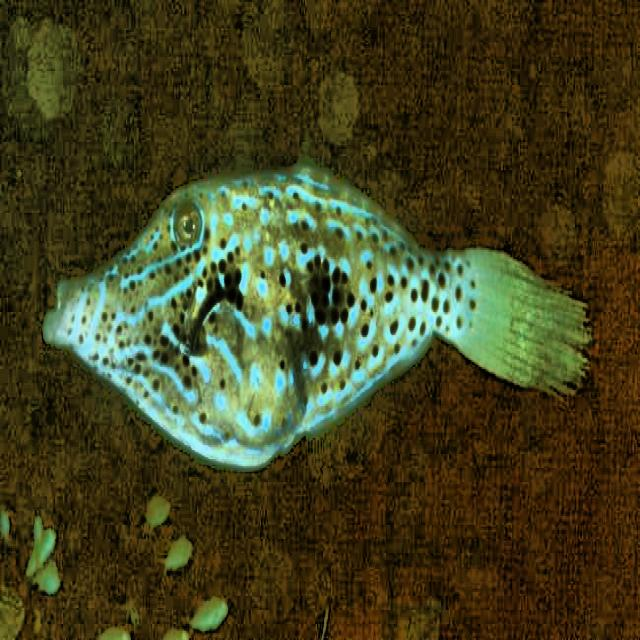fish: (43, 162, 594, 471)
